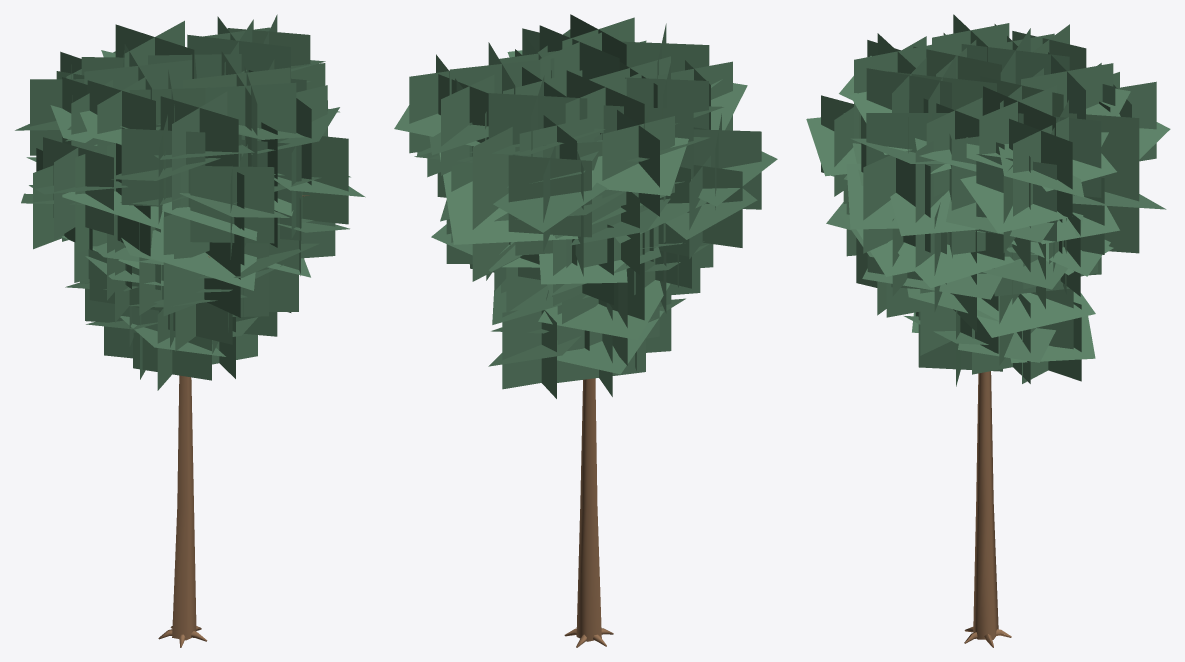
Rendered from pin_4_f2_loin.glb.
3 views of the same model, side by side, from view 1: azimuth 30°, elevation 25°; view 2: azimuth 150°, elevation 25°; view 3: azimuth 270°, elevation 25° (orthographic).
Visible parts, largest first — view 1: Pin_T4_f2_Leger_Loin; view 2: Pin_T4_f2_Leger_Loin; view 3: Pin_T4_f2_Leger_Loin.
Part boxes in pixels (bbox=[...]): Pin_T4_f2_Leger_Loin: bbox=[15, 14, 365, 647]; Pin_T4_f2_Leger_Loin: bbox=[394, 14, 777, 647]; Pin_T4_f2_Leger_Loin: bbox=[806, 14, 1170, 647].
Size of the model in its own units: 11.76 by 19.6 by 11.22.
